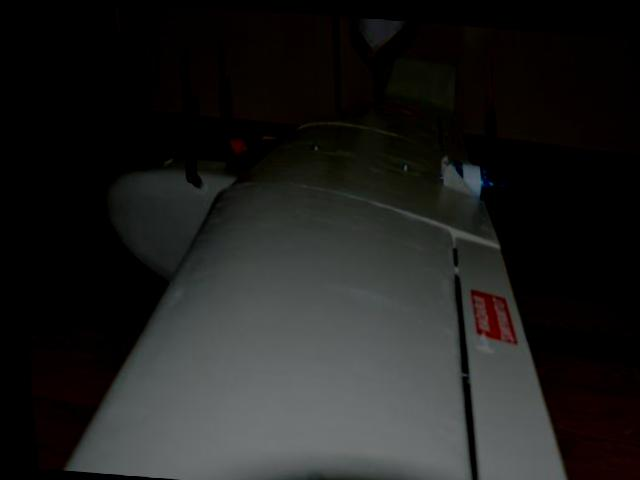iha: (15, 20, 587, 480)
